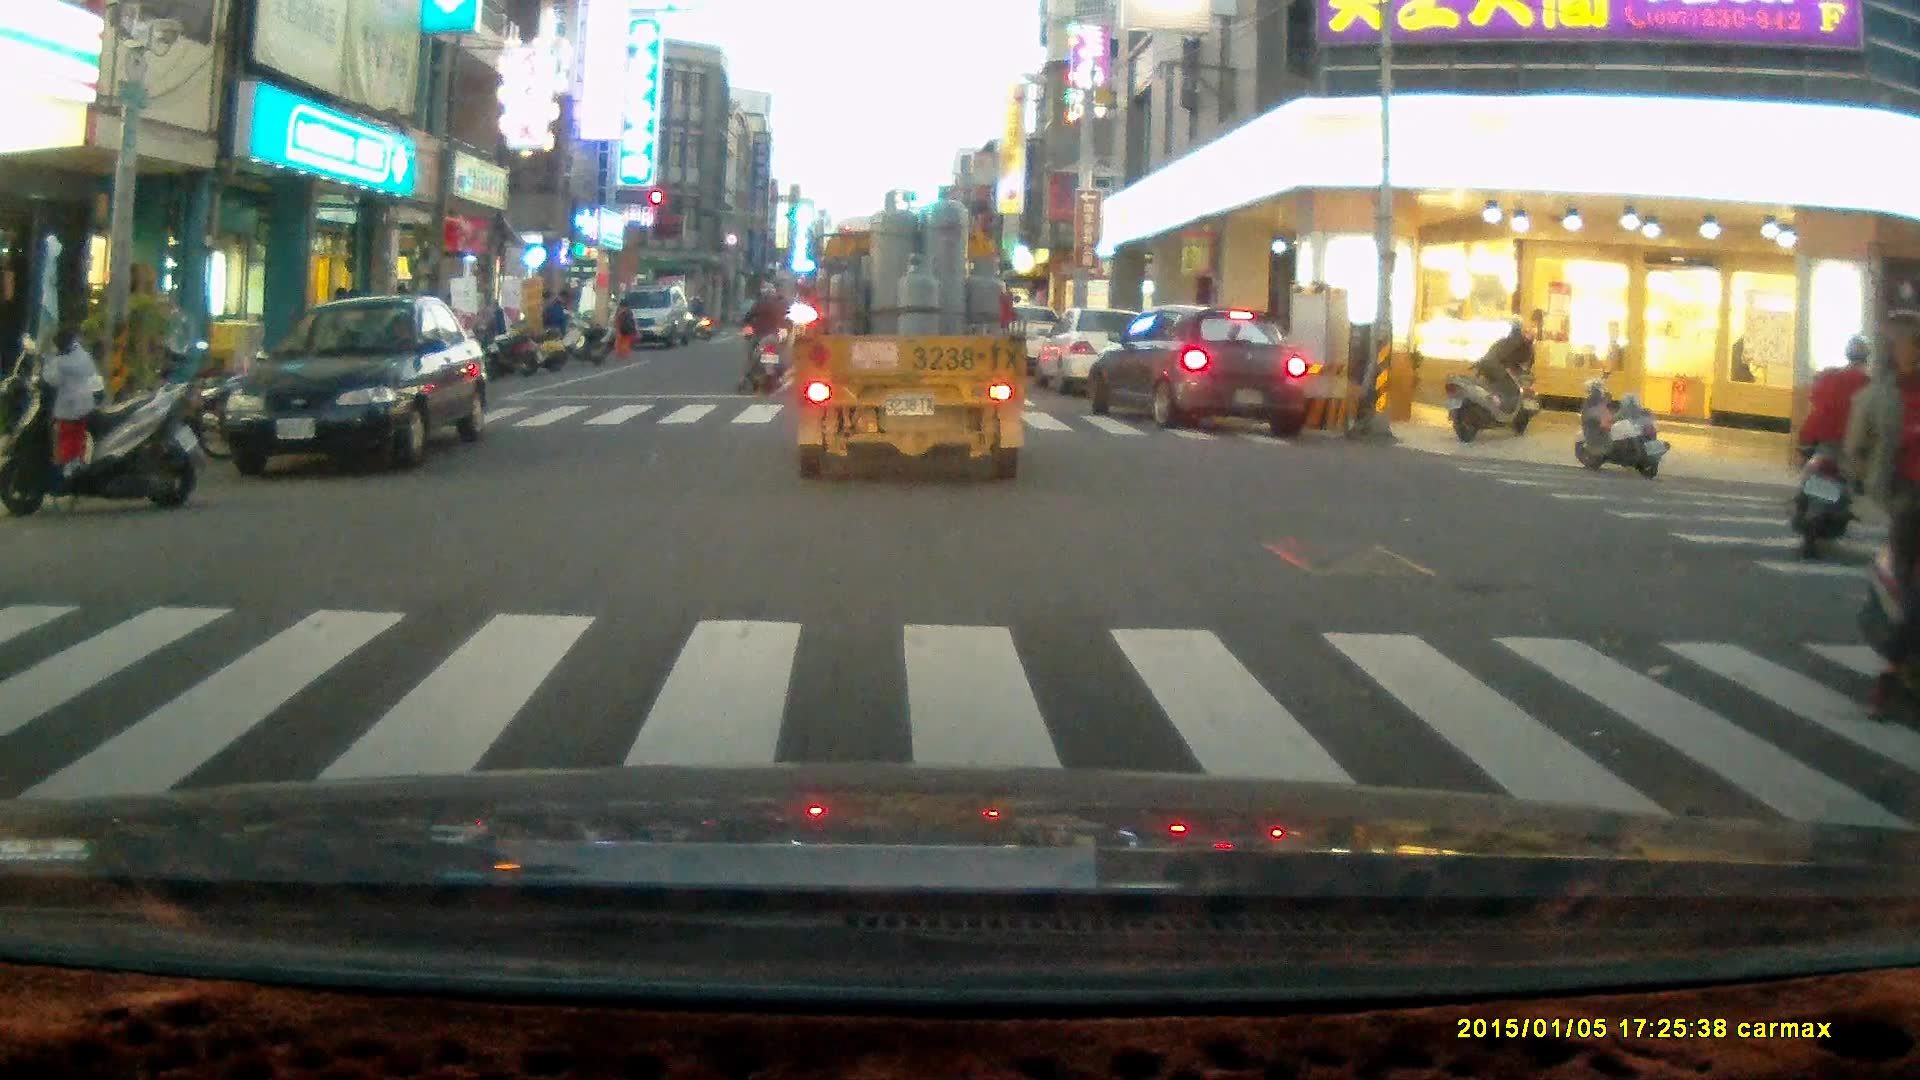pedestrian: (40, 322, 95, 477), (543, 285, 573, 355), (613, 296, 635, 357)
rider: (1842, 304, 1920, 721), (1788, 327, 1897, 562), (729, 271, 790, 395), (1481, 311, 1540, 436)
vehicle: (789, 187, 1025, 483), (224, 293, 489, 475), (1083, 308, 1311, 433), (1036, 307, 1171, 399), (610, 281, 690, 343)
